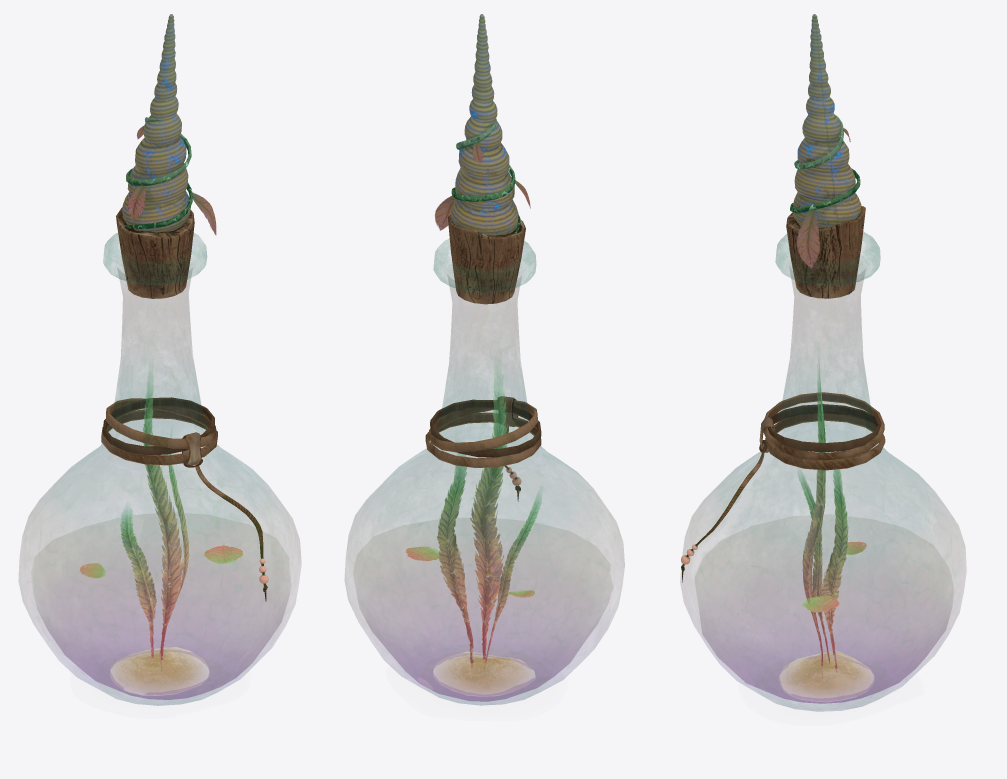
The model's file is PRP_Flask.glb.
3 renders of one model, left to right at view 1: azimuth 30°, elevation 25°; view 2: azimuth 150°, elevation 25°; view 3: azimuth 270°, elevation 25°, orthographic. The views are drawn at different scales.
Visible parts, largest first — view 1: Potion2_Glass_0, Potion2_Liquid_0, Potion2_Objects_0, Potion2_Plants_0; view 2: Potion2_Glass_0, Potion2_Objects_0, Potion2_Liquid_0, Potion2_Plants_0; view 3: Potion2_Glass_0, Potion2_Liquid_0, Potion2_Objects_0, Potion2_Plants_0.
Boxes of the visible parts, x1,y1,x2,y2 form: Potion2_Glass_0: [18, 233, 301, 705]; Potion2_Liquid_0: [32, 551, 288, 699]; Potion2_Objects_0: [101, 14, 268, 695]; Potion2_Plants_0: [79, 117, 242, 671]; Potion2_Glass_0: [344, 239, 624, 705]; Potion2_Objects_0: [425, 14, 541, 695]; Potion2_Liquid_0: [359, 554, 604, 701]; Potion2_Plants_0: [406, 119, 541, 663]; Potion2_Glass_0: [680, 232, 966, 711]; Potion2_Liquid_0: [699, 563, 951, 703]; Potion2_Objects_0: [681, 14, 885, 698]; Potion2_Plants_0: [790, 113, 866, 677].
Size of the model in its own units: 556 by 1410 by 595.
5 materials, 5 textured.
